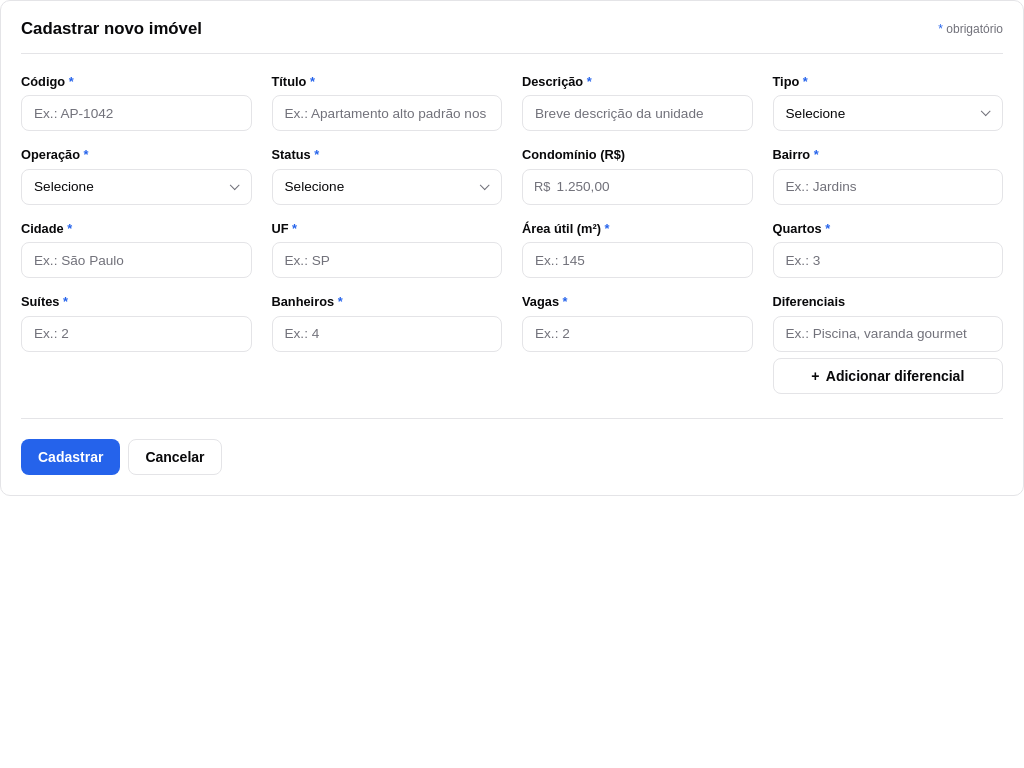
Test case: FormularioDeImovel › cenario: operacao decide o campo de preco (D1) › Aluguel mostra so o preco de aluguel
The width and height of the screenshot is (1024, 768).
Step 1. Select "Aluguel" in the dropdown labelled "Operação" → (136, 187), box [21,169,252,205]
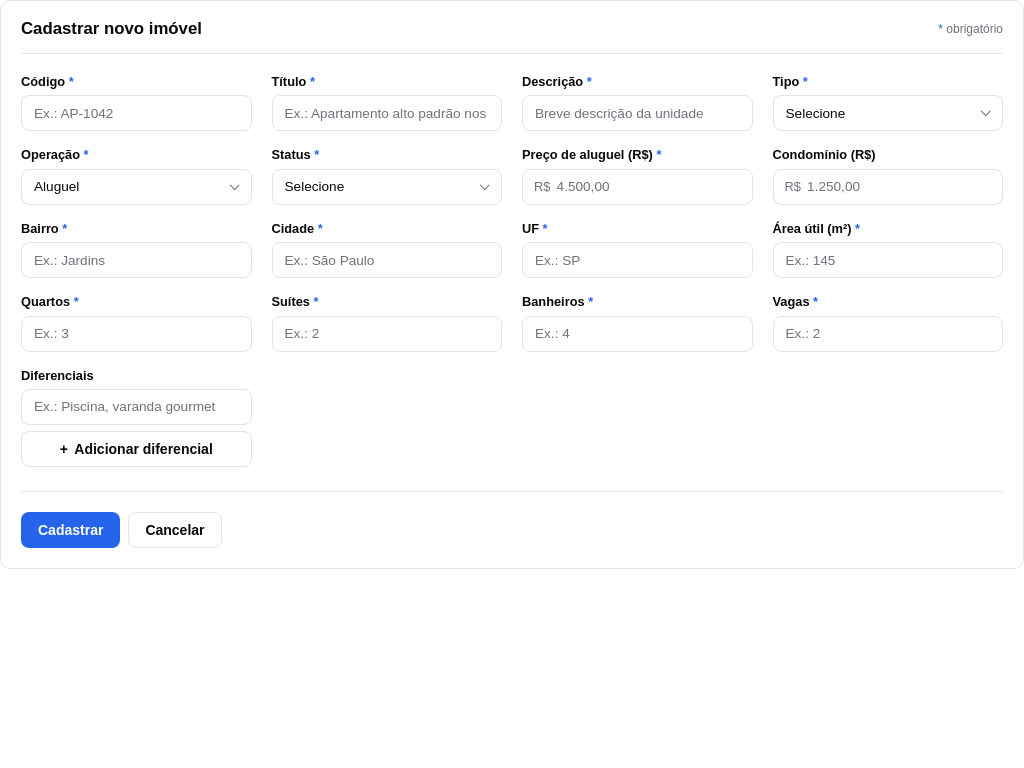
Expected: the field labelled "Preço de aluguel (R$)" is shown, [522,169,752,205]
